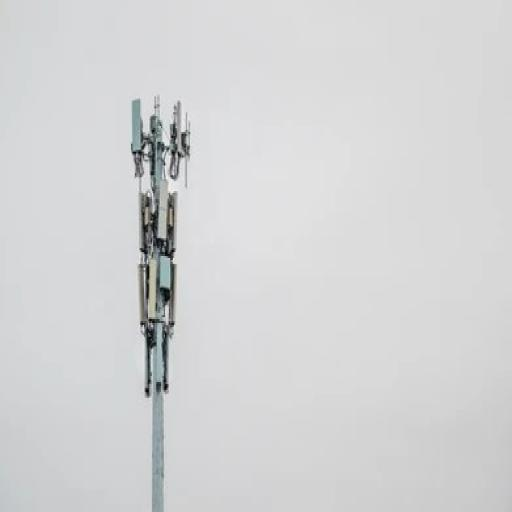monopole_tower: (126, 88, 200, 512)
